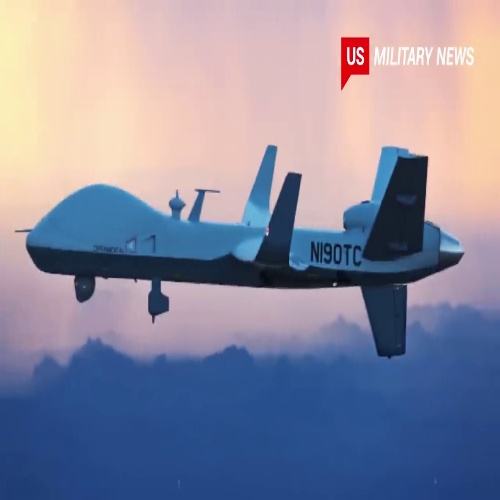uav: (14, 144, 467, 359)
